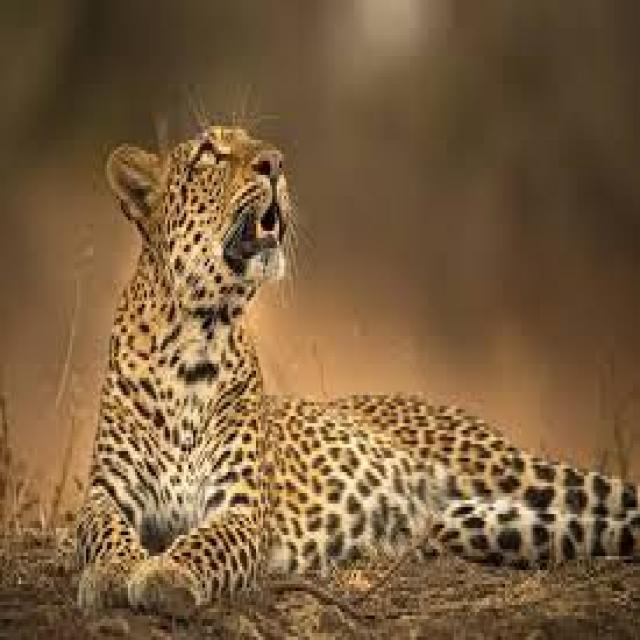Leopard: (65, 112, 640, 612)
